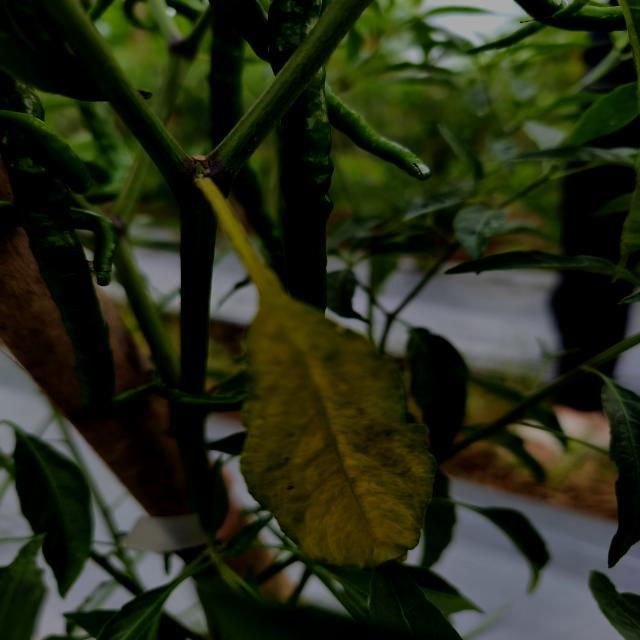Virus Kuning: (239, 299, 441, 572)
